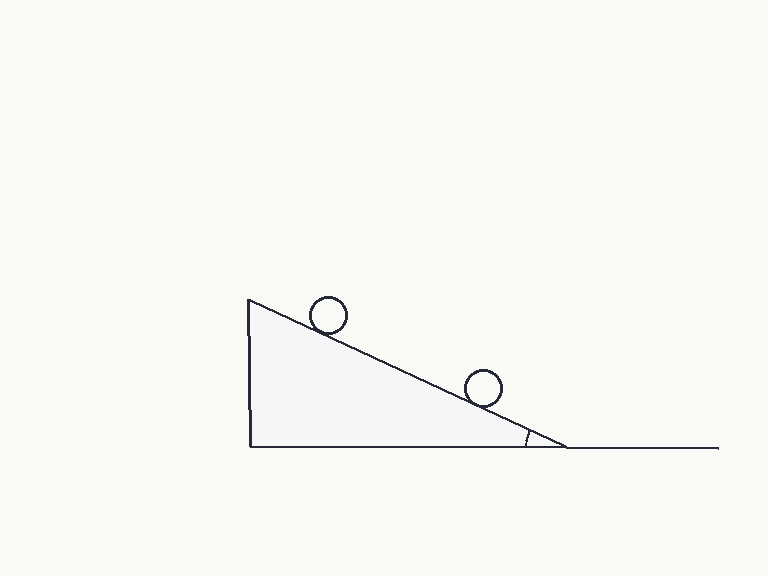ball: (307, 294, 349, 336), (462, 367, 504, 409)
ramp: (247, 297, 568, 449)
